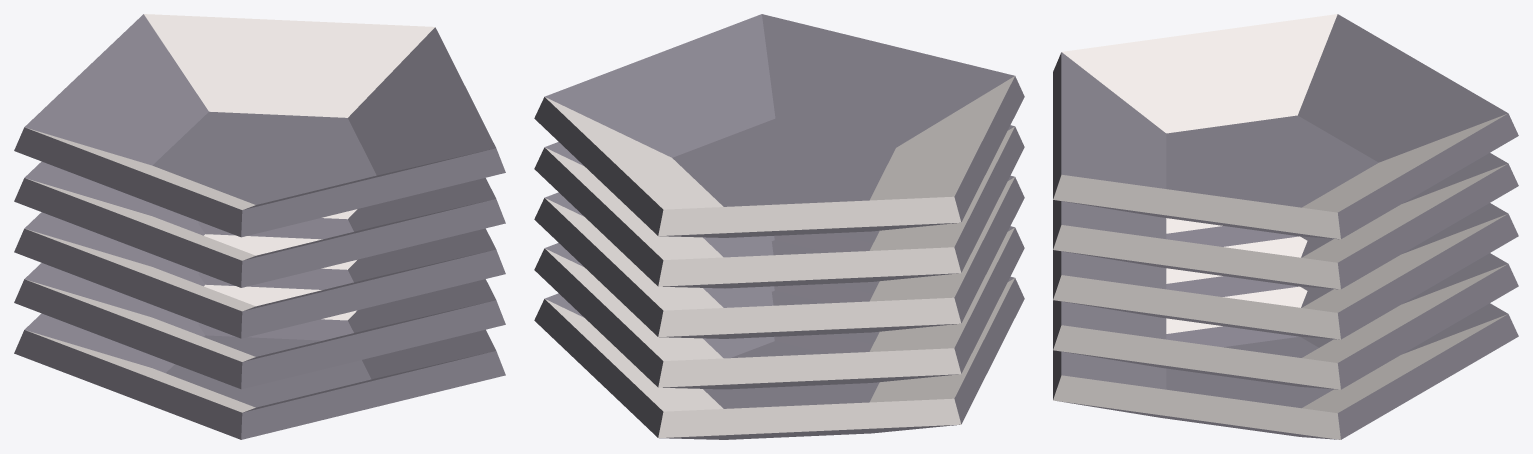
Rendered from TB_Prop_DishPile.FBX.
3 views of the same model, side by side, from view 1: azimuth 30°, elevation 25°; view 2: azimuth 150°, elevation 25°; view 3: azimuth 270°, elevation 25° (orthographic).
Visible parts, largest first — view 1: TB_Prop_DishPile; view 2: TB_Prop_DishPile; view 3: TB_Prop_DishPile.
Boxes of the visible parts, x1,y1,x2,y2 form: TB_Prop_DishPile: (14, 14, 505, 439); TB_Prop_DishPile: (534, 14, 1024, 439); TB_Prop_DishPile: (1053, 14, 1518, 439).
Size of the model in its own units: 0.5447 by 0.3356 by 0.518.
